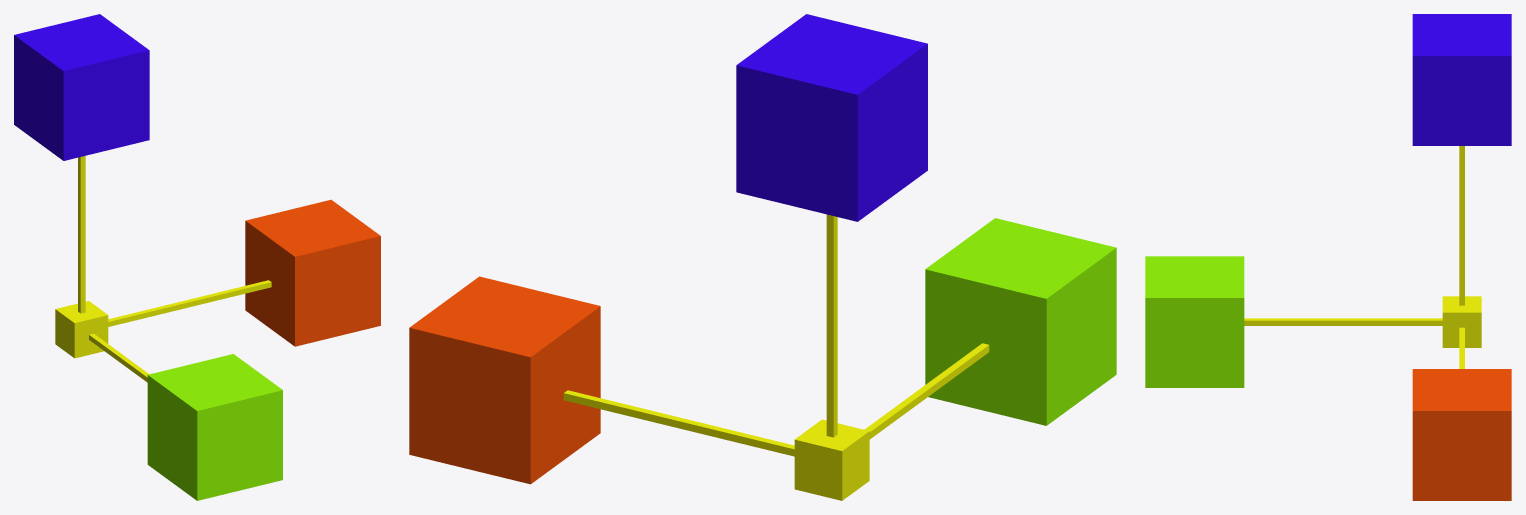
The model's file is gizmo_scale.glb.
The picture shows the model from 3 angles, left to right: view 1: azimuth 30°, elevation 25°; view 2: azimuth 150°, elevation 25°; view 3: azimuth 270°, elevation 25°; orthographic projection. The views are drawn at different scales.
Parts seen in each view (by area): view 1: gizmo_scale_y, gizmo_scale_z, gizmo_scale_x, gizmo_axes; view 2: gizmo_scale_z, gizmo_scale_x, gizmo_scale_y, gizmo_axes; view 3: gizmo_scale_x, gizmo_scale_y, gizmo_scale_z, gizmo_axes.
Boxes of the visible parts, x1,y1,x2,y2 form: gizmo_scale_y: (147,354,282,500); gizmo_scale_z: (14,14,149,160); gizmo_scale_x: (245,199,380,346); gizmo_axes: (55,156,271,382); gizmo_scale_z: (736,14,927,221); gizmo_scale_x: (409,276,600,484); gizmo_scale_y: (925,218,1116,425); gizmo_axes: (563,214,989,500); gizmo_scale_x: (1412,369,1511,500); gizmo_scale_y: (1145,256,1244,387); gizmo_scale_z: (1412,14,1511,145); gizmo_axes: (1244,146,1481,368).
Size of the model in its own units: 0.2733 by 0.2733 by 0.2733.
